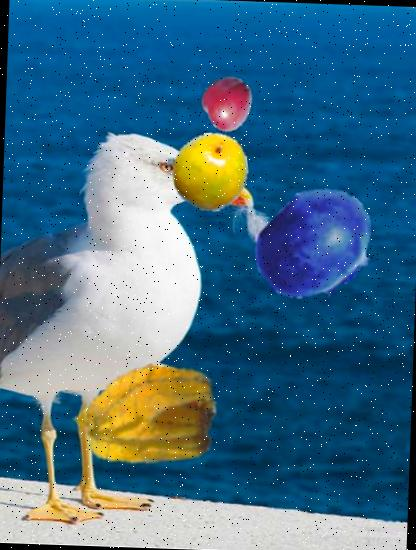Carambula: (136, 358, 192, 414)
Cherry: (201, 76, 255, 130)
Huckleberry: (253, 182, 381, 310)
Maracuja: (168, 132, 250, 214)
Physalis: (70, 340, 220, 491)
